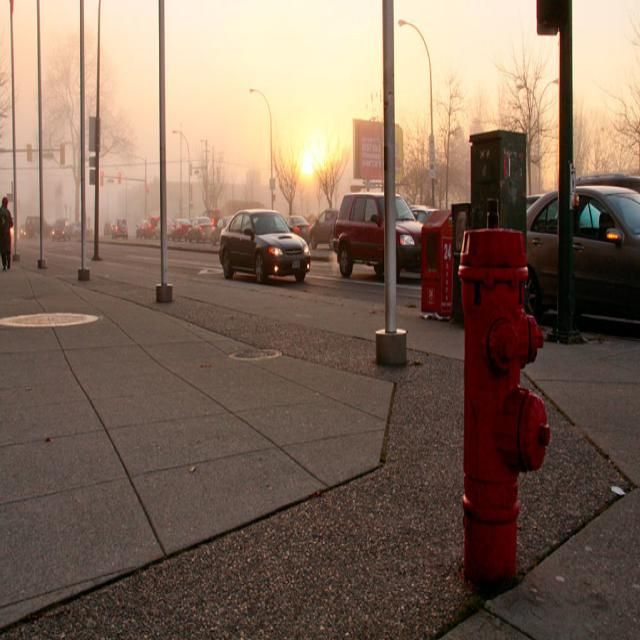fire_hydrant: (455, 225, 552, 588)
